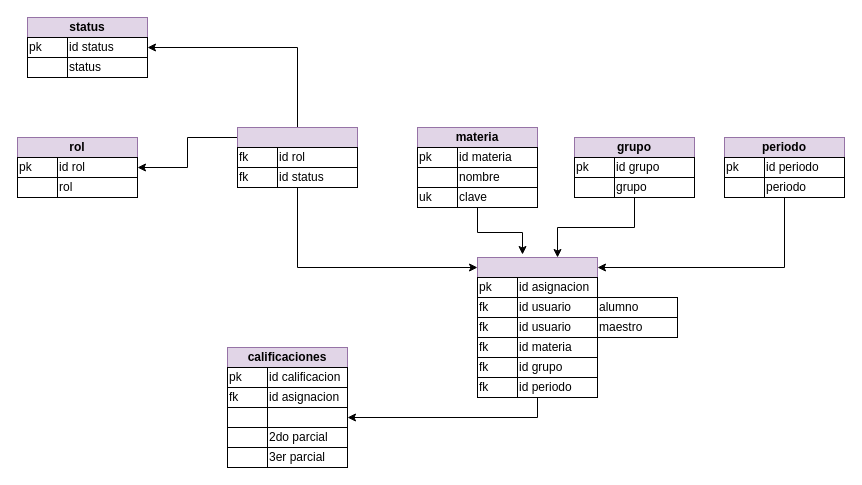
This 862x485 diagram has some shape labels left out. The centre of each missing label's shape, as x and y in pixels:
1er parcial: point (307, 417)
asignacion: point (537, 267)
usuario: point (297, 137)
